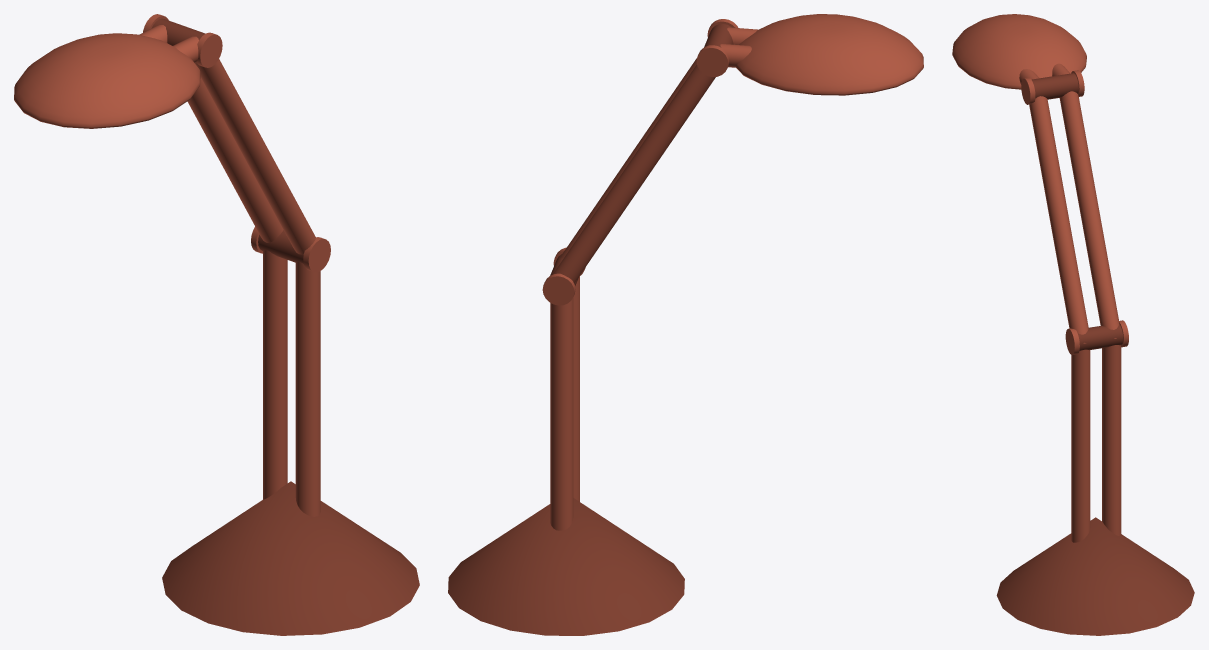
File: desk lamp.fbx
The picture shows the model from 3 angles, left to right: view 1: azimuth 30°, elevation 25°; view 2: azimuth 150°, elevation 25°; view 3: azimuth 270°, elevation 25°; orthographic projection. The views are drawn at different scales.
Visible parts, largest first — view 1: lampe_bureau:pCone1, lampe_bureau:pSphere2, lampe_bureau:pCylinder4, lampe_bureau:pCylinder3, lampe_bureau:pCylinder5, lampe_bureau:pCylinder10, lampe_bureau:pCylinder13, lampe_bureau:pCylinder8, lampe_bureau:pCylinder7, lampe_bureau:pCylinder12; view 2: lampe_bureau:pCone1, lampe_bureau:pSphere2, lampe_bureau:pCylinder10, lampe_bureau:pCylinder3, lampe_bureau:pCylinder4, lampe_bureau:pCylinder5, lampe_bureau:pCylinder9, lampe_bureau:pCylinder14; view 3: lampe_bureau:pCone1, lampe_bureau:pSphere2, lampe_bureau:pCylinder10, lampe_bureau:pCylinder5, lampe_bureau:pCylinder4, lampe_bureau:pCylinder3, lampe_bureau:pCylinder12, lampe_bureau:pCylinder7.
Part boxes in pixels (box(x1,y1,x2,y2)): lampe_bureau:pCone1: box(162, 481, 419, 635); lampe_bureau:pSphere2: box(14, 33, 200, 128); lampe_bureau:pCylinder4: box(295, 261, 320, 516); lampe_bureau:pCylinder3: box(263, 250, 287, 499); lampe_bureau:pCylinder5: box(195, 59, 315, 254); lampe_bureau:pCylinder10: box(187, 77, 283, 242); lampe_bureau:pCylinder13: box(196, 32, 222, 67); lampe_bureau:pCylinder8: box(303, 237, 330, 272); lampe_bureau:pCylinder7: box(258, 230, 303, 263); lampe_bureau:pCylinder12: box(152, 18, 205, 45); lampe_bureau:pCone1: box(448, 498, 684, 635); lampe_bureau:pSphere2: box(735, 14, 923, 95); lampe_bureau:pCylinder10: box(553, 65, 715, 283); lampe_bureau:pCylinder3: box(550, 298, 573, 530); lampe_bureau:pCylinder4: box(573, 276, 579, 501); lampe_bureau:pCylinder5: box(560, 58, 696, 258); lampe_bureau:pCylinder9: box(542, 273, 575, 305); lampe_bureau:pCylinder14: box(696, 45, 729, 76); lampe_bureau:pCone1: box(996, 517, 1194, 635); lampe_bureau:pSphere2: box(952, 14, 1086, 89); lampe_bureau:pCylinder10: box(1059, 91, 1119, 338); lampe_bureau:pCylinder5: box(1029, 96, 1088, 343); lampe_bureau:pCylinder4: box(1071, 349, 1090, 542); lampe_bureau:pCylinder3: box(1102, 345, 1121, 535); lampe_bureau:pCylinder12: box(1032, 73, 1078, 99); lampe_bureau:pCylinder7: box(1077, 324, 1123, 350).
Bounding box in the file's own units: 0.9628 × 1.32 × 0.6075.
